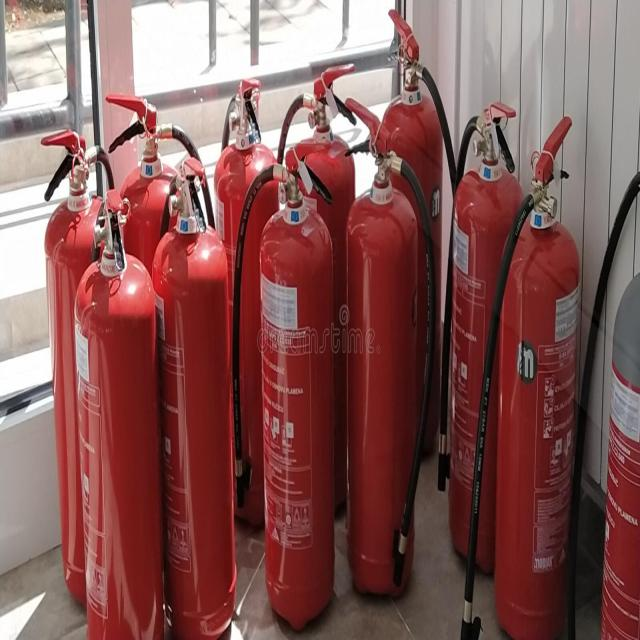fire_extinguisher: (458, 110, 586, 639), (102, 84, 228, 606), (226, 135, 341, 639), (338, 92, 438, 604), (369, 2, 472, 468), (36, 127, 131, 622), (68, 185, 171, 639), (145, 149, 240, 639), (435, 97, 530, 586), (272, 60, 358, 532), (563, 161, 640, 639), (210, 77, 288, 540)
